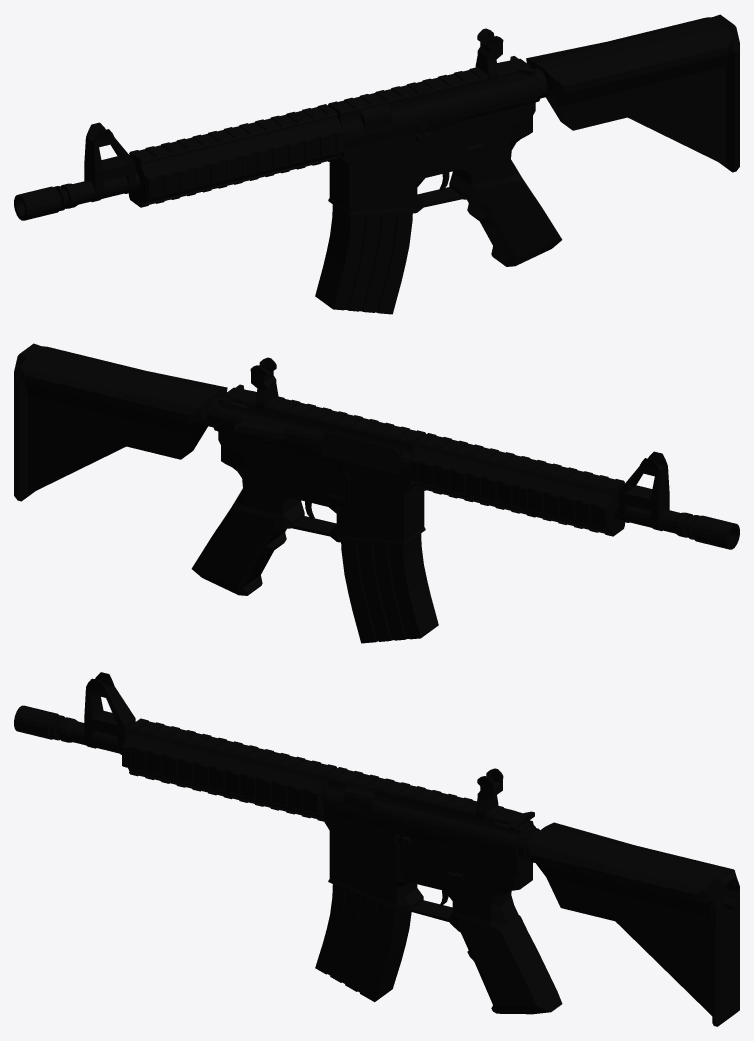
3 views of the same model, one above another, from view 1: azimuth 30°, elevation 25°; view 2: azimuth 150°, elevation 25°; view 3: azimuth 330°, elevation 25° (orthographic).
Visible parts, largest first — view 1: Main, Butt, Magazine, Sight; view 2: Main, Butt, Magazine, Gate, Sight; view 3: Main, Butt, Magazine, Sight.
Part boxes in pixels (<box>): Main: <box>14,58,562,266</box>; Butt: <box>526,14,739,172</box>; Magazine: <box>315,204,412,314</box>; Sight: <box>475,28,503,80</box>; Main: <box>191,387,739,595</box>; Butt: <box>14,343,227,501</box>; Magazine: <box>341,533,438,643</box>; Gate: <box>321,431,400,474</box>; Sight: <box>250,357,278,409</box>; Main: <box>14,672,725,1014</box>; Butt: <box>526,822,739,1026</box>; Magazine: <box>315,884,411,1002</box>; Sight: <box>475,768,503,819</box>.
Bounding box in the file's own units: 0.7724 × 0.2598 × 0.0627.
Materials: 1 (1 with a texture image).
